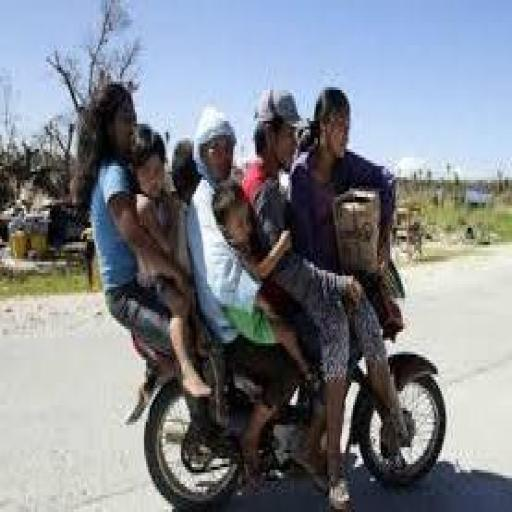no helmet: (239, 66, 333, 226)
triple riding: (78, 59, 472, 512)
